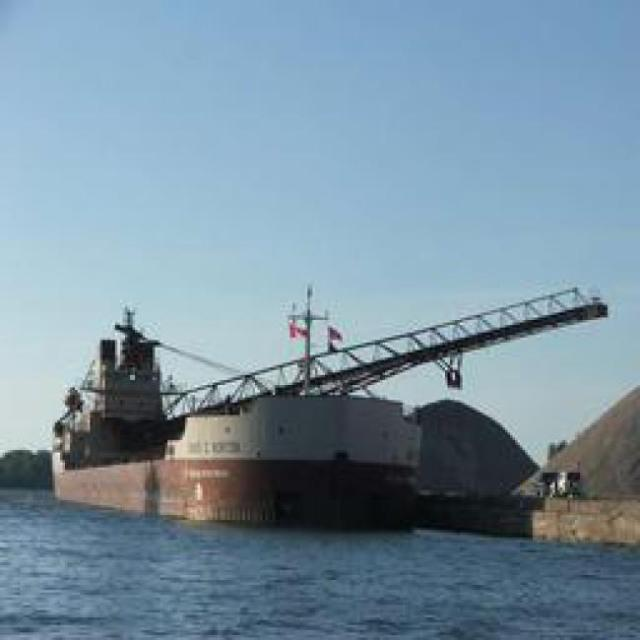boat: (51, 338, 456, 542)
